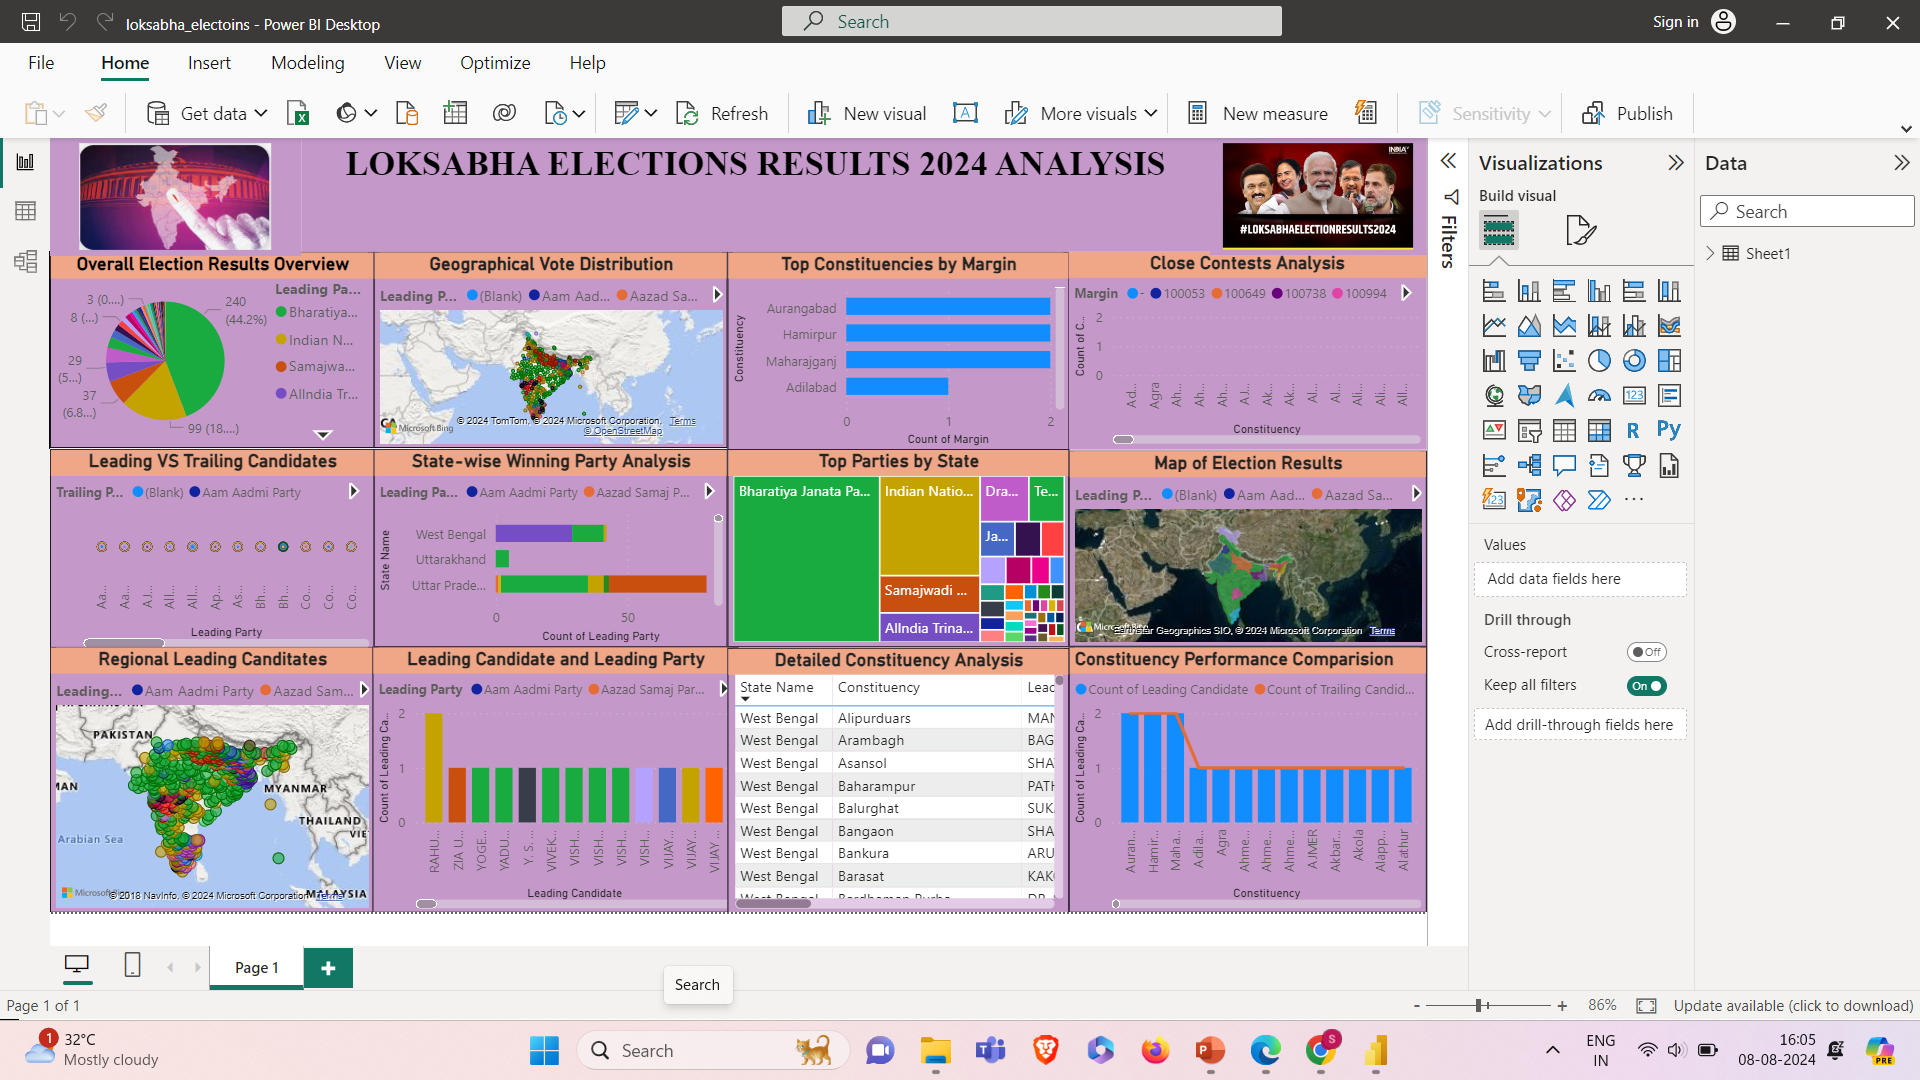

The page's visual inventory and layout, read from the dashboard file:
{"tool":"powerbi","page":{"name":"Page 1","canvas":[1280,720],"ordinal":0},"visuals":[{"type":"pieChart","title":"Overall Election Results Overview","fields":{"Category":["Sheet1.Leading Party"],"Y":["CountNonNull(Sheet1.Leading Party)"]},"box":[0,106.2,301.2,182.5],"z":0},{"type":"map","title":"Geographical Vote Distribution","fields":{"Y":["Sheet1.Latitude"],"X":["Sheet1.Longitude"],"Series":["Sheet1.Leading Party"]},"box":[301.2,106.2,328.8,182.5],"z":1000},{"type":"barChart","title":"Top Constituencies by Margin","fields":{"Category":["Sheet1.Constituency"],"Y":["CountNonNull(Sheet1.Margin)"]},"box":[630,106.2,317.5,185],"z":2000},{"type":"lineChart","title":"Close Contests Analysis","fields":{"Category":["Sheet1.Constituency"],"Series":["Sheet1.Margin"],"Y":["CountNonNull(Sheet1.Constituency)"]},"box":[947.5,106.2,332.5,183.8],"z":3000},{"type":"scatterChart","title":"Leading  VS Trailing Candidates","fields":{"X":["Sheet1.Leading Party"],"Size":["CountNonNull(Sheet1.Margin)"],"Series":["Sheet1.Trailing Party"]},"box":[0,288.8,301.2,188.8],"z":4000},{"type":"barChart","title":"State-wise Winning Party Analysis","fields":{"Category":["Sheet1.State Name"],"Series":["Sheet1.Leading Party"],"Y":["CountNonNull(Sheet1.Leading Party)"]},"box":[301.2,288.8,328.8,183.8],"z":5000},{"type":"filledMap","title":"Map of Election Results","fields":{"Category":["Sheet1.State Name","Sheet1.Constituency"],"Series":["Sheet1.Leading Party"]},"box":[947.5,290,332.5,182.5],"z":6000},{"type":"map","title":"Regional Leading Canditates","fields":{"Y":["Sheet1.Latitude"],"X":["Sheet1.Longitude"],"Size":["CountNonNull(Sheet1.Margin)"],"Series":["Sheet1.Leading Party"]},"box":[0,472.5,301.2,247.5],"z":7000},{"type":"columnChart","title":" Leading Candidate and Leading Party","fields":{"Category":["Sheet1.Leading Candidate"],"Y":["CountNonNull(Sheet1.Leading Candidate)"],"Series":["Sheet1.Leading Party"]},"box":[300,472.5,340,247.5],"z":8000},{"type":"lineClusteredColumnComboChart","title":"Constituency Performance Comparision","fields":{"Category":["Sheet1.Constituency"],"Y":["CountNonNull(Sheet1.Leading Candidate)"],"Y2":["CountNonNull(Sheet1.Trailing Candidate)"]},"box":[947.5,472.5,332.5,247.5],"z":9000},{"type":"treemap","title":"Top Parties by State","fields":{"Group":["Sheet1.Leading Party"],"Values":["CountNonNull(Sheet1.State Name)"]},"box":[630,288.8,317.5,183.8],"z":10000},{"type":"tableEx","title":"Detailed Constituency Analysis","fields":{"Values":["Sheet1.State Name","Sheet1.Constituency","Sheet1.Leading Candidate","Sheet1.Leading Party","Sheet1.Trailing Candidate","Sheet1.Trailing Party","Sheet1.Margin"]},"box":[630,473.8,317.5,246.2],"z":11000},{"type":"textbox","box":[233.6,0,844.7,105.7],"z":12000},{"type":"image","box":[1078.8,0,201.2,108.8],"z":13000},{"type":"image","box":[0,0,233.6,109.2],"z":14000}]}

Visuals, with their boxes on the page's 1280x720 design canvas (x1, y1, x2, y2). These are canvas units, not pixel positions in the 1920x1080 screenshot, which may show the page scaled, cropped or inside an application window:
"Overall Election Results Overview" pieChart: x1=0 y1=106 x2=301 y2=289
"Geographical Vote Distribution" map: x1=301 y1=106 x2=630 y2=289
"Top Constituencies by Margin" barChart: x1=630 y1=106 x2=948 y2=291
"Close Contests Analysis" lineChart: x1=948 y1=106 x2=1280 y2=290
"Leading  VS Trailing Candidates" scatterChart: x1=0 y1=289 x2=301 y2=478
"State-wise Winning Party Analysis" barChart: x1=301 y1=289 x2=630 y2=473
"Map of Election Results" filledMap: x1=948 y1=290 x2=1280 y2=472
"Regional Leading Canditates" map: x1=0 y1=472 x2=301 y2=720
" Leading Candidate and Leading Party" columnChart: x1=300 y1=472 x2=640 y2=720
"Constituency Performance Comparision" lineClusteredColumnComboChart: x1=948 y1=472 x2=1280 y2=720
"Top Parties by State" treemap: x1=630 y1=289 x2=948 y2=473
"Detailed Constituency Analysis" tableEx: x1=630 y1=474 x2=948 y2=720
textbox: x1=234 y1=0 x2=1078 y2=106
image: x1=1079 y1=0 x2=1280 y2=109
image: x1=0 y1=0 x2=234 y2=109
